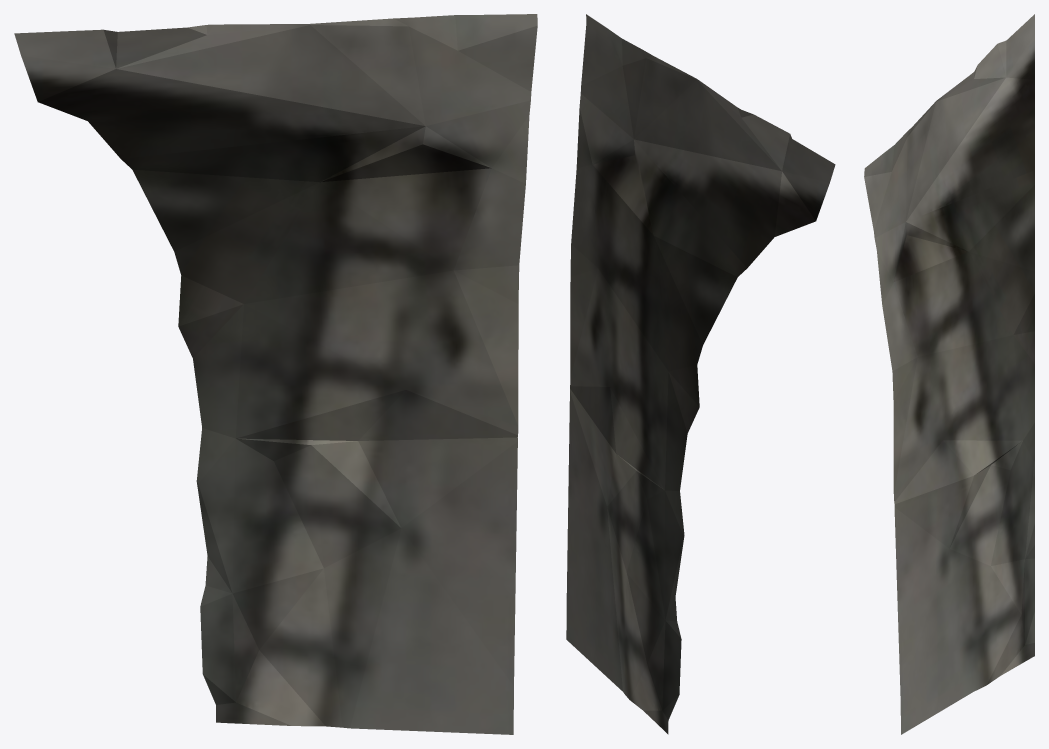
3 renders of one model, left to right at view 1: azimuth 30°, elevation 25°; view 2: azimuth 150°, elevation 25°; view 3: azimuth 270°, elevation 25°, orthographic. The views are drawn at different scales.
Size of the model in its own units: 0.4893 by 0.8374 by 0.2287.
Materials: 1 (1 with a texture image).
